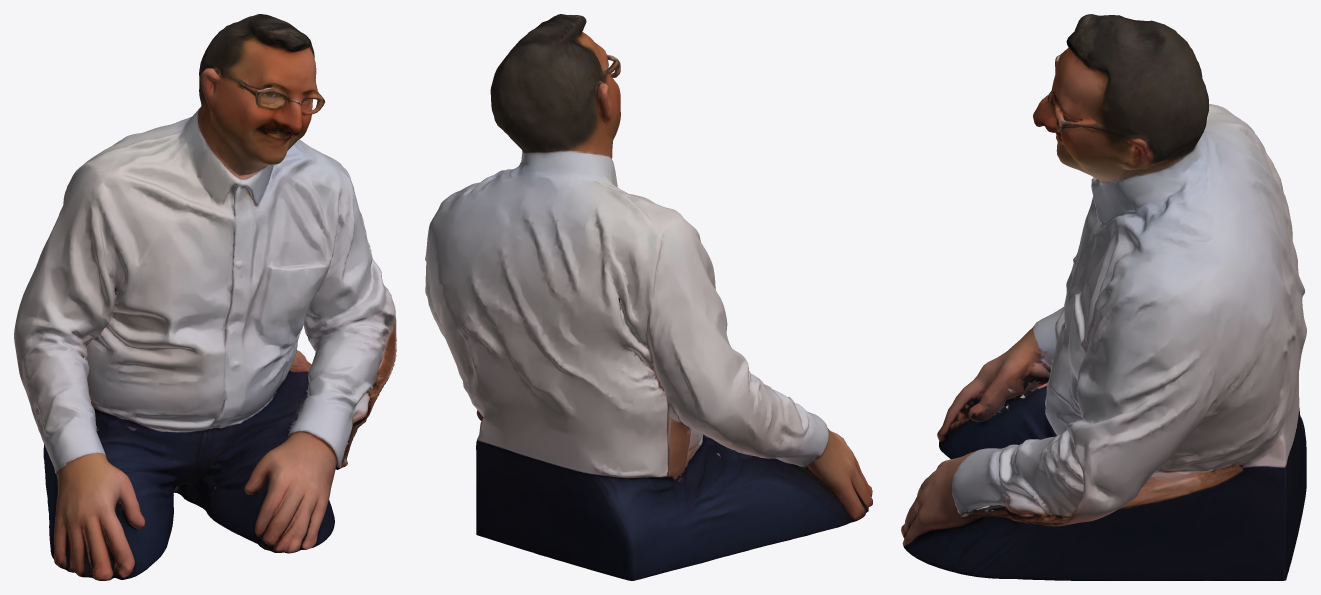
The model's file is jackson-hunyuan3d-textured.glb.
3 renders of one model, left to right at view 1: azimuth 30°, elevation 25°; view 2: azimuth 150°, elevation 25°; view 3: azimuth 270°, elevation 25°, orthographic. The views are drawn at different scales.
Visible parts, largest first — view 1: hunyuan3d_2.1_textured_raw.glb; view 2: hunyuan3d_2.1_textured_raw.glb; view 3: hunyuan3d_2.1_textured_raw.glb.
Boxes of the visible parts, left/top/right/bottom form: hunyuan3d_2.1_textured_raw.glb: left=14, top=14, right=396, bottom=580; hunyuan3d_2.1_textured_raw.glb: left=425, top=14, right=872, bottom=580; hunyuan3d_2.1_textured_raw.glb: left=901, top=14, right=1306, bottom=580.
Size of the model in its own units: 1.69 by 1.99 by 1.32.
1 material, 1 textured.
